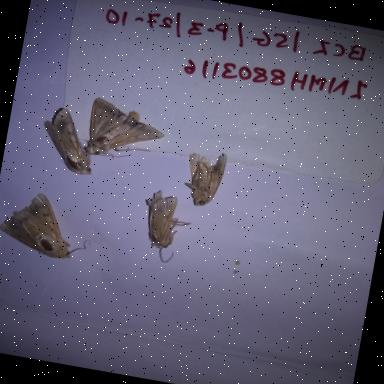abw: (0, 182, 103, 269), (73, 88, 175, 170), (32, 98, 108, 182), (126, 184, 200, 270), (174, 142, 238, 214)
